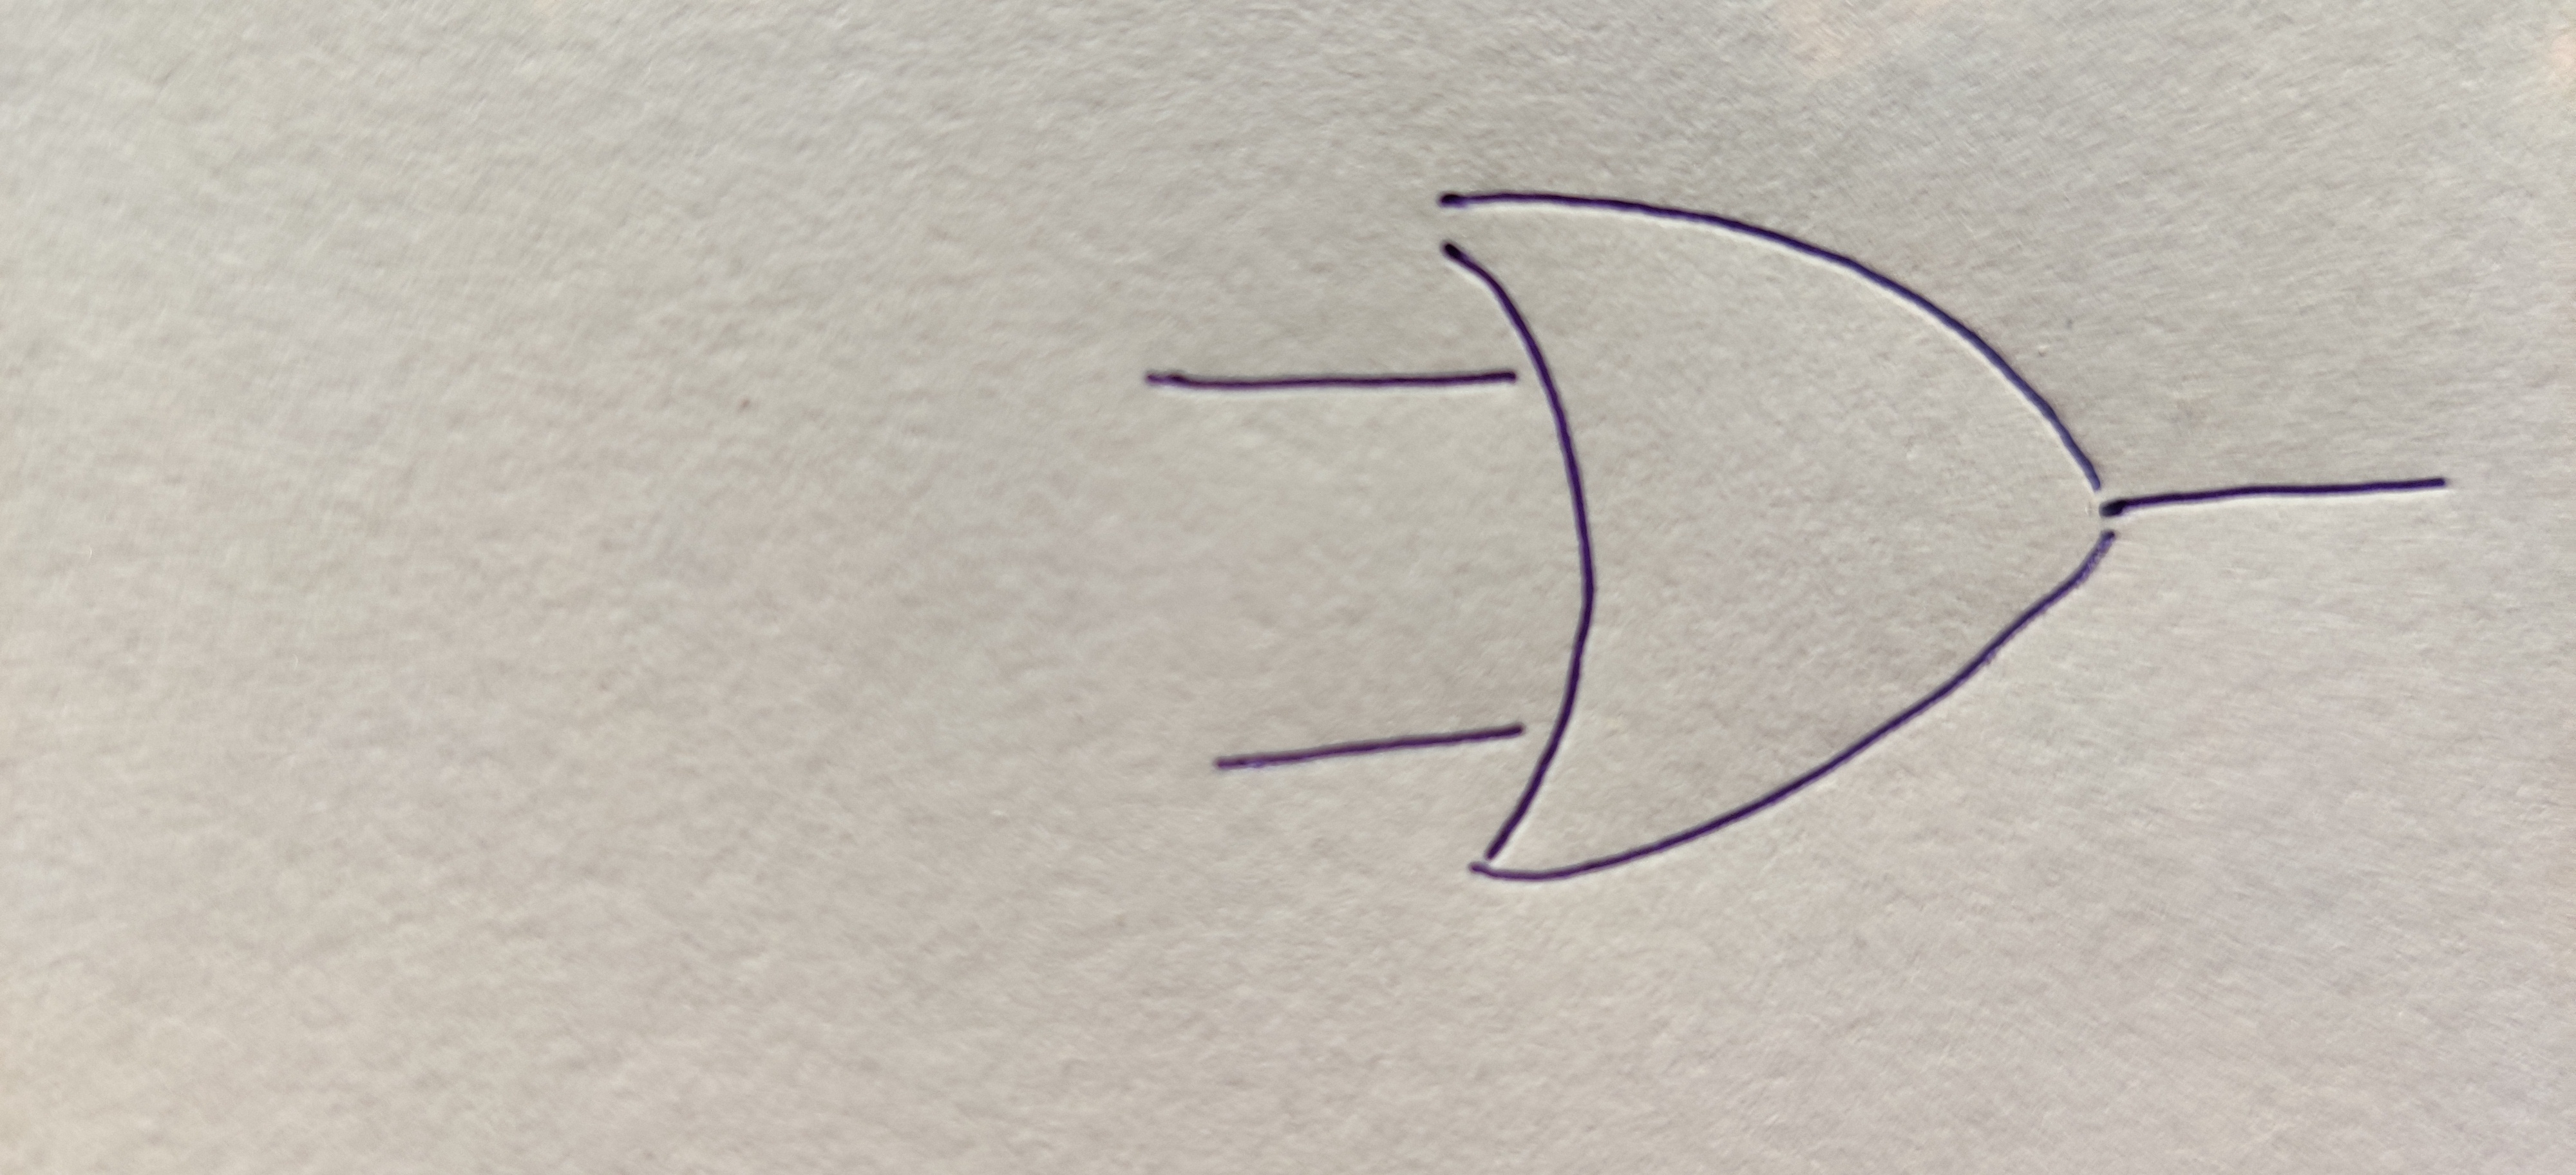or: (1444, 189, 2108, 882)
